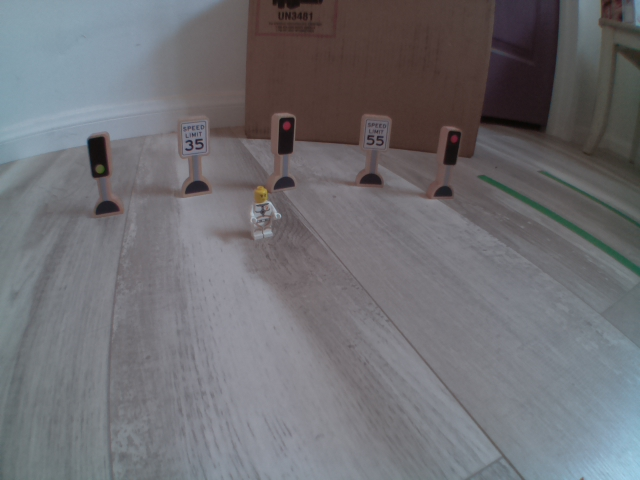Green Traffic Light: (77, 131, 124, 181)
Red Traffic Light: (435, 124, 465, 174), (269, 112, 300, 159)
Speed Limit 35: (175, 115, 215, 159)
Speed Limit 55: (354, 106, 399, 160)
person: (238, 184, 290, 243)
